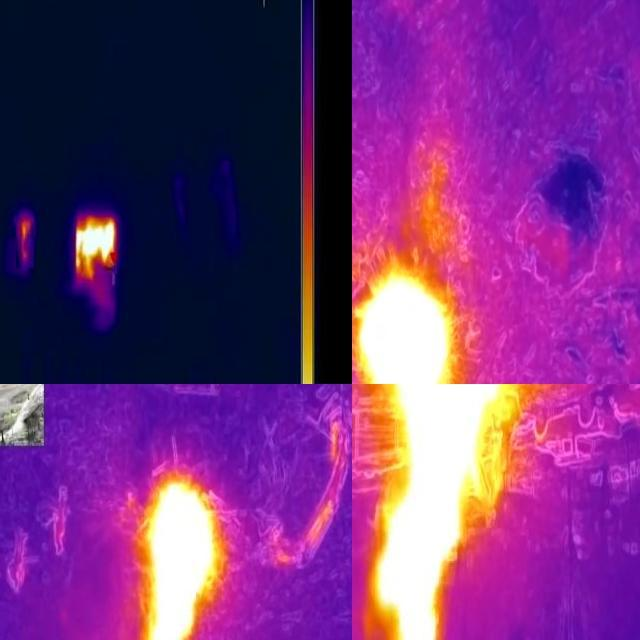fire: (377, 385, 500, 640), (132, 474, 226, 640), (358, 266, 458, 385), (73, 208, 118, 284), (16, 210, 34, 268)
